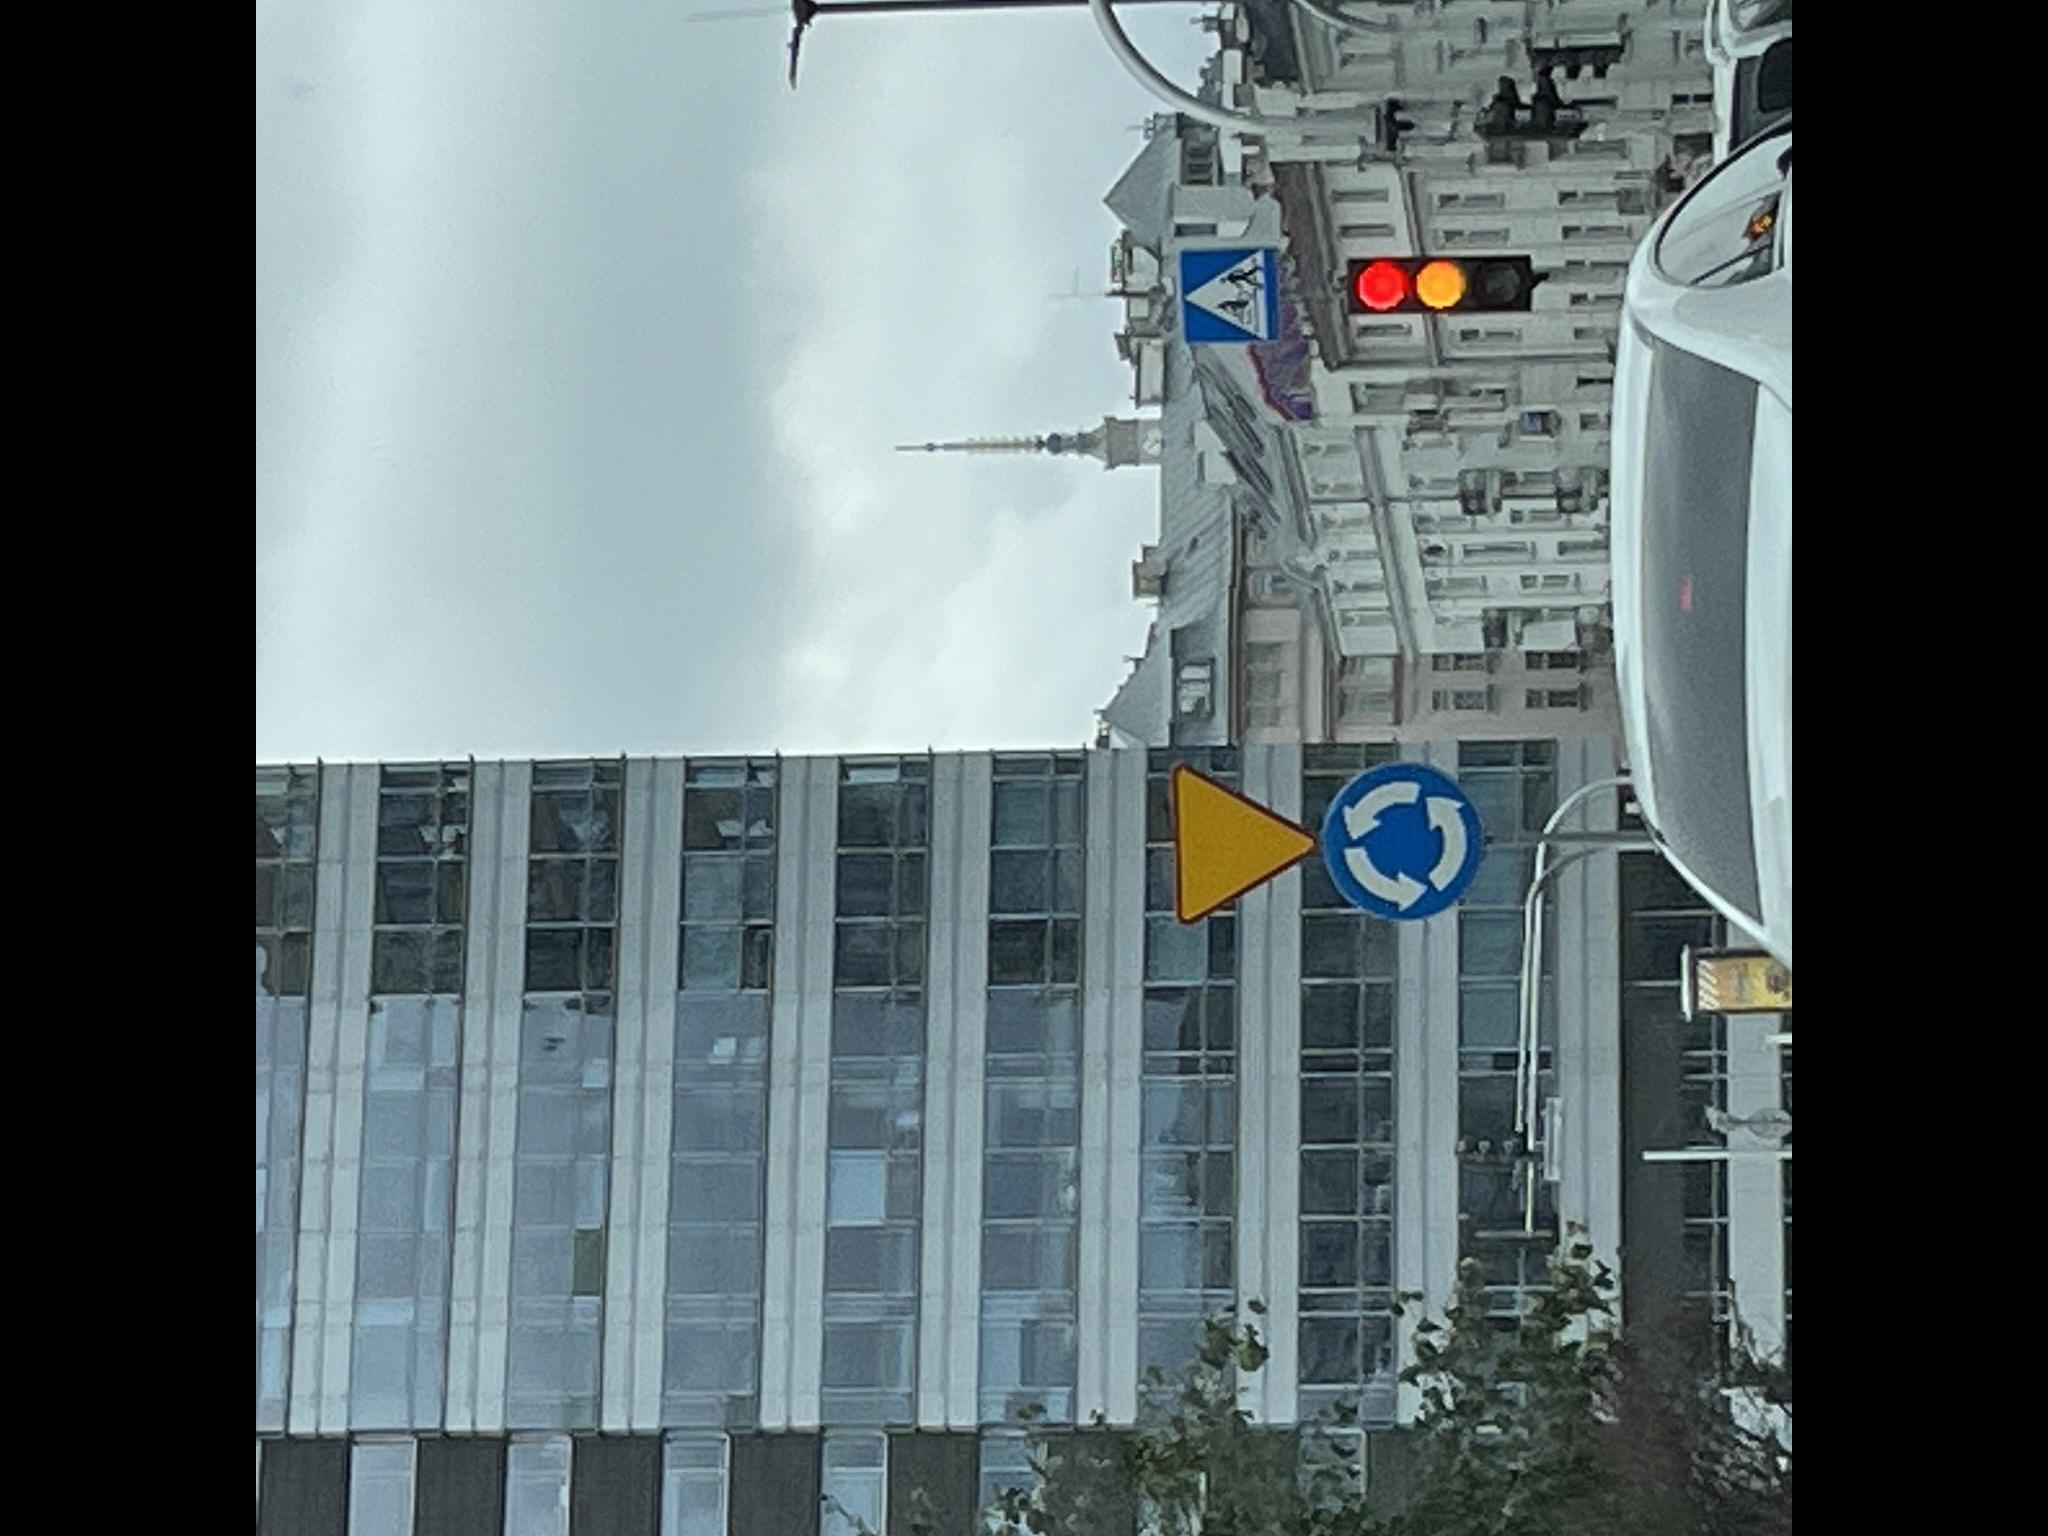information: (1176, 245, 1280, 344)
mandatory: (1322, 758, 1488, 921)
warning: (1172, 762, 1324, 921)
